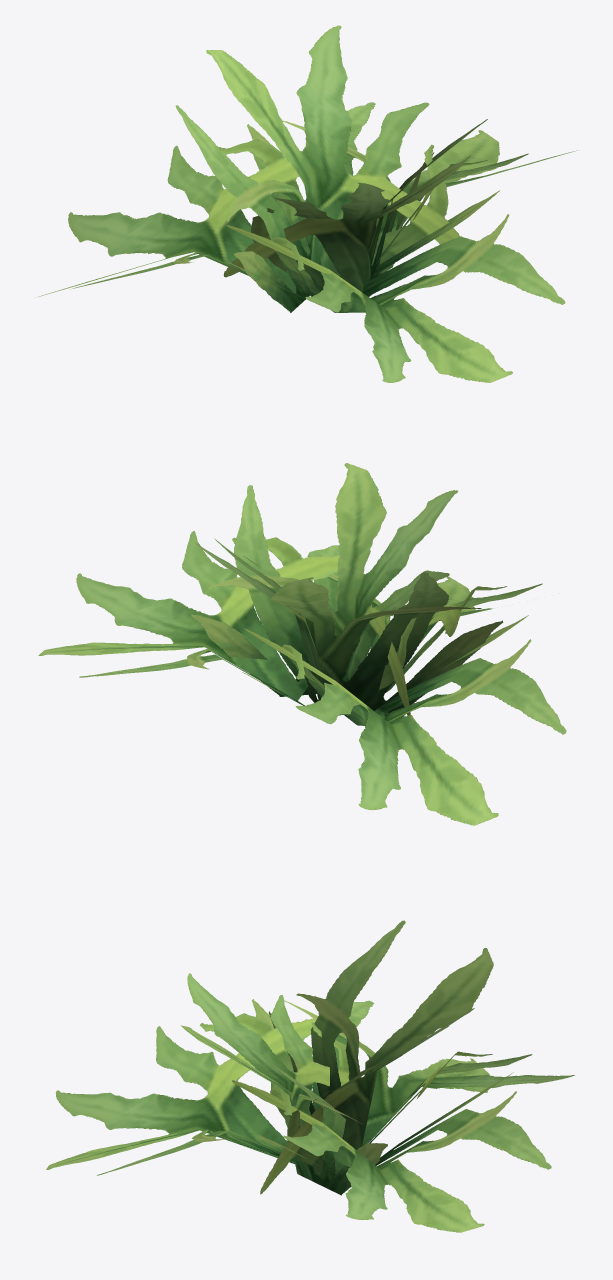
The model's file is sm_plant_01.FBX.
3 views of the same model, one above another, from view 1: azimuth 30°, elevation 25°; view 2: azimuth 150°, elevation 25°; view 3: azimuth 270°, elevation 25° (orthographic).
Parts seen in each view (by area): view 1: sm_plant_01; view 2: sm_plant_01; view 3: sm_plant_01.
Part boxes in pixels (x1,y1,x2,y2): sm_plant_01: [38, 25, 576, 382]; sm_plant_01: [38, 463, 566, 825]; sm_plant_01: [46, 920, 574, 1232].
Bounding box in the file's own units: 131 × 124 × 55.11.
